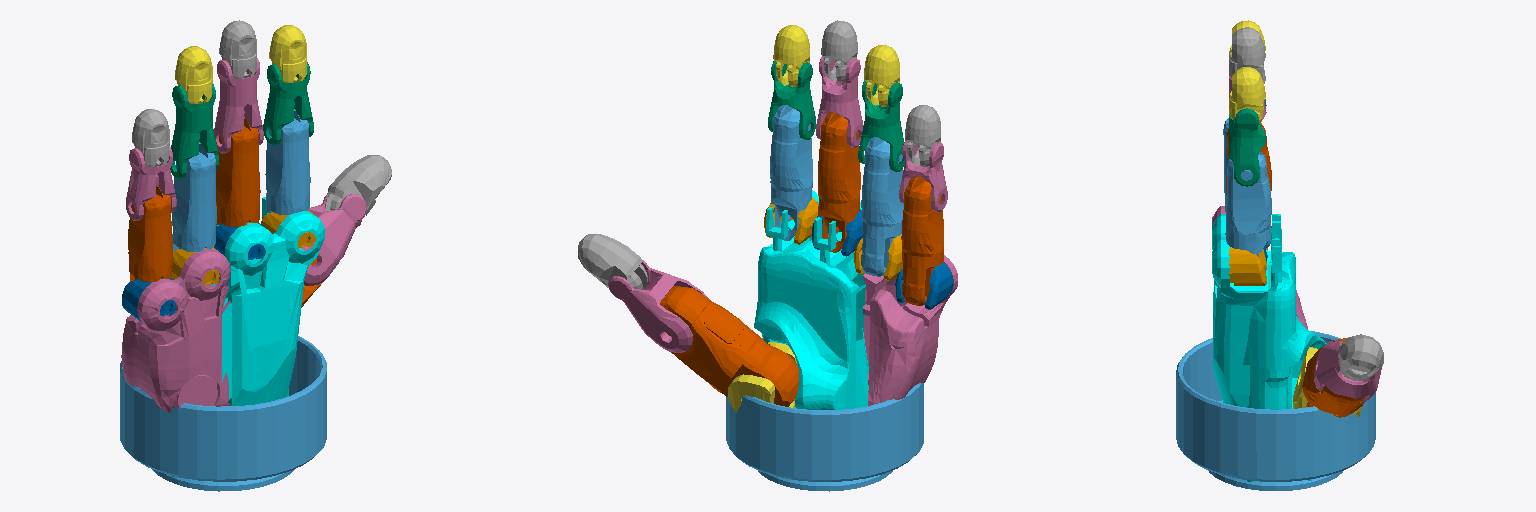
The robot description file, URDF, robot "svh":
<?xml version="1.0" ?>
<!-- =================================================================================== -->
<!-- |    This document was autogenerated by xacro from svh-standalone.urdf.xacro      | -->
<!-- |    EDITING THIS FILE BY HAND IS NOT RECOMMENDED                                 | -->
<!-- =================================================================================== -->
<robot name="svh">
  <link name="base_link"/>
  <!-- RIGHT HAND = 1, LEFT HAND = -1 -->
  <!-- BASE_LINE LINKS -->
  <joint name="left_hand_base_joint" type="fixed">
    <origin rpy="0 0 0" xyz="0 0 0"/>
    <parent link="base_link"/>
    <child link="left_hand_base_link"/>
  </joint>
  <link name="left_hand_base_link">
    <origin rpy="0 0 0" xyz="0 0 0"/>
    <visual>
      <origin rpy="0 0 0" xyz="0 0 0"/>
      <geometry>
        <mesh filename="meshes/base10.obj"/>
      </geometry>
    </visual>
    <inertial>
      <mass value="0.57743"/>
      <origin xyz="0.0 -2.3e-05 0.139371"/>
      <inertia ixx="0.04725" ixy="-0.0" ixz="-0.0" iyy="0.04717" iyz="0.0" izz="0.07606"/>
    </inertial>
  </link>
  <link name="left_hand_d">
    <inertial>
      <mass value="0.01"/>
      <origin xyz="0 0 0"/>
      <inertia ixx="0.001" ixy="0.0" ixz="0.0" iyy="0.001" iyz="0.0" izz="0.001"/>
    </inertial>
  </link>
  <link name="left_hand_h">
    <inertial>
      <mass value="0.01"/>
      <origin xyz="0 0 0"/>
      <inertia ixx="0.001" ixy="0.0" ixz="0.0" iyy="0.001" iyz="0.0" izz="0.001"/>
    </inertial>
  </link>
  <link name="left_hand_d2">
    <inertial>
      <mass value="0.01"/>
      <origin xyz="0 0 0"/>
      <inertia ixx="0.001" ixy="0.0" ixz="0.0" iyy="0.001" iyz="0.0" izz="0.001"/>
    </inertial>
  </link>
  <!-- LENGTH NOT FOUND IN DATASHEET! GUESSED!!! -->
  <link name="left_hand_e1">
    <visual>
      <origin rpy="0 0 0" xyz="0 0.01313 0"/>
      <geometry>
        <mesh filename="meshes/h10.obj"/>
      </geometry>
      <material name="cyan">
        <color rgba="0.0 1.0 1.0 1.0"/>
      </material>
      <texture filename=""/>
    </visual>
    <inertial>
      <mass value="0.01"/>
      <origin xyz="0 0 0"/>
      <inertia ixx="0.001" ixy="0.0" ixz="0.0" iyy="0.001" iyz="0.0" izz="0.001"/>
    </inertial>
  </link>
  <!-- LENGTH NOT FOUND IN DATASHEET! GUESSED!!! -->
  <link name="left_hand_e2">
    <visual>
      <origin xyz="0.0007 0 -0.01002"/>
      <geometry>
        <mesh filename="meshes/h11.obj"/>
      </geometry>
    </visual>
    <inertial>
      <mass value="0.46184"/>
      <origin xyz="0.145071 -0.037868 0.323449"/>
      <inertia ixx="0.01908" ixy="-0.00121" ixz="-0.00011" iyy="0.01704" iyz="0.00277" izz="0.00862"/>
    </inertial>
  </link>
  <!-- LENGTH NOT FOUND IN DATASHEET! GUESSED!!! -->
  <link name="left_hand_e3">
    <inertial>
      <mass value="0.01"/>
      <origin xyz="0 0 0"/>
      <inertia ixx="0.001" ixy="0.0" ixz="0.0" iyy="0.001" iyz="0.0" izz="0.001"/>
    </inertial>
  </link>
  <link name="left_hand_e">
    </link>
  <!-- LENGTH NOT FOUND IN DATASHEET! GUESSED, BUT POSITION CALCULATED WITH E4 = D-G-F!!! -->
  <link name="left_hand_e4">
    <inertial>
      <mass value="0.01"/>
      <origin xyz="0 0 0"/>
      <inertia ixx="0.001" ixy="0.0" ixz="0.0" iyy="0.001" iyz="0.0" izz="0.001"/>
    </inertial>
  </link>
  <!-- LENGTH NOT FOUND IN DATASHEET! GUESSED, BUT POSITION CALCULATED WITH E5 = D-G!!! -->
  <link name="left_hand_e5">
    <inertial>
      <mass value="0.01"/>
      <origin xyz="0 0 0"/>
      <inertia ixx="0.001" ixy="0.0" ixz="0.0" iyy="0.001" iyz="0.0" izz="0.001"/>
    </inertial>
  </link>
  <!-- THUMB LINKS -->
  <link name="left_hand_z">
    <visual>
      <origin xyz="0 0 0.02442"/>
      <geometry>
        <mesh filename="meshes/d10.obj"/>
      </geometry>
    </visual>
    <inertial>
      <mass value="0.0739"/>
      <origin xyz="0.0 0.002024 0.178636"/>
      <inertia ixx="0.00103" ixy="-0.0" ixz="-0.0" iyy="0.00165" iyz="4e-05" izz="0.00111"/>
    </inertial>
  </link>
  <link name="left_hand_virtual_a">
    <inertial>
      <mass value="0.01"/>
      <origin xyz="0 0 0"/>
      <inertia ixx="0.001" ixy="0.0" ixz="0.0" iyy="0.001" iyz="0.0" izz="0.001"/>
    </inertial>
  </link>
  <link name="left_hand_a">
    <visual>
      <geometry>
        <mesh filename="meshes/d11.obj"/>
      </geometry>
    </visual>
    <inertial>
      <mass value="0.41222"/>
      <origin xyz="0.240205 0.010733 0.00019"/>
      <inertia ixx="0.00413" ixy="0.00073" ixz="-0.0" iyy="0.01679" iyz="0.0" izz="0.01796"/>
    </inertial>
  </link>
  <link name="left_hand_b">
    <visual>
      <geometry>
        <mesh filename="meshes/d12.obj"/>
      </geometry>
    </visual>
    <inertial>
      <mass value="0.08224"/>
      <origin xyz="0.123157 -0.008382 -2.7e-05"/>
      <inertia ixx="0.00089" ixy="5e-05" ixz="0.0" iyy="0.00139" iyz="0.0" izz="0.00103"/>
    </inertial>
  </link>
  <link name="left_hand_c">
    <visual>
      <geometry>
        <mesh filename="meshes/d13.obj"/>
      </geometry>
    </visual>
    <inertial>
      <mass value="0.06198"/>
      <origin xyz="0.113729 0.01094 0.0"/>
      <inertia ixx="0.00025" ixy="-0.0" ixz="-0.0" iyy="0.00051" iyz="0.0" izz="0.00052"/>
    </inertial>
  </link>
  <!-- INDEX FINGER LINKS -->
  <link name="left_hand_virtual_l">
    <visual>
      <origin xyz="0 0 0.01321"/>
      <geometry>
        <mesh filename="meshes/f10.obj"/>
      </geometry>
    </visual>
    <inertial>
      <mass value="0.02383"/>
      <origin xyz="0.003634 0.000206 -0.09885"/>
      <inertia ixx="0.00021" ixy="-0.0" ixz="-1e-05" iyy="0.00011" iyz="-0.0" izz="0.00019"/>
    </inertial>
  </link>
  <link name="left_hand_l">
    <visual>
      <geometry>
        <mesh filename="meshes/f11.obj"/>
      </geometry>
    </visual>
    <inertial>
      <mass value="0.13003"/>
      <origin xyz="0.261673 0.003521 0.0"/>
      <inertia ixx="0.00051" ixy="-3e-05" ixz="0.0" iyy="0.00335" iyz="-0.0" izz="0.00344"/>
    </inertial>
  </link>
  <link name="left_hand_p">
    <visual>
      <geometry>
        <mesh filename="meshes/f12.obj"/>
      </geometry>
    </visual>
    <inertial>
      <mass value="0.03264"/>
      <origin xyz="0.1384 -0.004609 0.0"/>
      <inertia ixx="0.00016" ixy="-0.0" ixz="0.0" iyy="0.00031" iyz="-0.0" izz="0.00024"/>
    </inertial>
  </link>
  <link name="left_hand_t">
    <visual>
      <geometry>
        <mesh filename="meshes/f13.obj"/>
      </geometry>
    </visual>
    <inertial>
      <mass value="0.0324"/>
      <origin xyz="0.102924 0.000592 0.0"/>
      <inertia ixx="9e-05" ixy="-1e-05" ixz="-0.0" iyy="0.00017" iyz="0.0" izz="0.00017"/>
    </inertial>
  </link>
  <!-- MIDDLE FINGER LINKS -->
  <link name="left_hand_virtual_k">
    <visual>
      <origin xyz="0 0 0.01321"/>
      <geometry>
        <mesh filename="meshes/f20.obj"/>
      </geometry>
    </visual>
    <inertial>
      <mass value="0.02377"/>
      <origin xyz="0.003357 -8e-06 -0.099643"/>
      <inertia ixx="0.00021" ixy="-0.0" ixz="-1e-05" iyy="0.00011" iyz="0.0" izz="0.00019"/>
    </inertial>
  </link>
  <link name="left_hand_k">
    <visual>
      <geometry>
        <mesh filename="meshes/f21.obj"/>
      </geometry>
    </visual>
    <inertial>
      <mass value="0.13474"/>
      <origin xyz="0.271122 0.00413 0.0"/>
      <inertia ixx="0.00052" ixy="-3e-05" ixz="-0.0" iyy="0.0037" iyz="-0.0" izz="0.0038"/>
    </inertial>
  </link>
  <link name="left_hand_o">
    <visual>
      <geometry>
        <mesh filename="meshes/f22.obj"/>
      </geometry>
    </visual>
    <inertial>
      <mass value="0.0422"/>
      <origin xyz="0.16683 -0.003774 0.0"/>
      <inertia ixx="0.0002" ixy="0.0" ixz="-0.0" iyy="0.00047" iyz="0.0" izz="0.0004"/>
    </inertial>
  </link>
  <link name="left_hand_s">
    <visual>
      <geometry>
        <mesh filename="meshes/f23.obj"/>
      </geometry>
    </visual>
    <inertial>
      <mass value="0.03239"/>
      <origin xyz="0.102794 0.00042 0.0"/>
      <inertia ixx="9e-05" ixy="-1e-05" ixz="0.0" iyy="0.00017" iyz="0.0" izz="0.00017"/>
    </inertial>
  </link>
  <!-- RING FINGER LINKS -->
  <link name="left_hand_virtual_j">
    <visual>
      <origin xyz="0 0 -0.01321"/>
      <geometry>
        <mesh filename="meshes/f30.obj"/>
      </geometry>
    </visual>
    <inertial>
      <mass value="0.02377"/>
      <origin xyz="0.003805 0.000386 0.100079"/>
      <inertia ixx="0.00021" ixy="0.0" ixz="1e-05" iyy="0.00011" iyz="-0.0" izz="0.00019"/>
    </inertial>
  </link>
  <link name="left_hand_j">
    <visual>
      <geometry>
        <mesh filename="meshes/f31.obj"/>
      </geometry>
    </visual>
    <inertial>
      <mass value="0.1377"/>
      <origin xyz="0.258283 -0.00154 0.0"/>
      <inertia ixx="0.00055" ixy="0.00018" ixz="-0.0" iyy="0.00411" iyz="0.0" izz="0.00426"/>
    </inertial>
  </link>
  <link name="left_hand_n">
    <visual>
      <geometry>
        <mesh filename="meshes/f32.obj"/>
      </geometry>
    </visual>
    <inertial>
      <mass value="0.04207"/>
      <origin xyz="0.166851 -0.00362 0.0"/>
      <inertia ixx="0.00019" ixy="0.0" ixz="-0.0" iyy="0.00047" iyz="0.0" izz="0.0004"/>
    </inertial>
  </link>
  <link name="left_hand_r">
    <visual>
      <geometry>
        <mesh filename="meshes/f33.obj"/>
      </geometry>
    </visual>
    <inertial>
      <mass value="0.03229"/>
      <origin xyz="0.102676 0.000301 0.0"/>
      <inertia ixx="9e-05" ixy="-1e-05" ixz="0.0" iyy="0.00017" iyz="-0.0" izz="0.00017"/>
    </inertial>
  </link>
  <!-- LITTLE FINGER LINKS -->
  <link name="left_hand_virtual_i">
    <visual>
      <origin xyz="0 0 -0.01321"/>
      <geometry>
        <mesh filename="meshes/f40.obj"/>
      </geometry>
    </visual>
    <inertial>
      <mass value="0.02377"/>
      <origin xyz="0.003653 4.4e-05 0.100085"/>
      <inertia ixx="0.00021" ixy="0.0" ixz="1e-05" iyy="0.00011" iyz="-0.0" izz="0.00019"/>
    </inertial>
  </link>
  <link name="left_hand_i">
    <visual>
      <geometry>
        <mesh filename="meshes/f41.obj"/>
      </geometry>
    </visual>
    <inertial>
      <mass value="0.12544"/>
      <origin xyz="0.232293 0.00622 0.0"/>
      <inertia ixx="0.00049" ixy="6e-05" ixz="-0.0" iyy="0.00316" iyz="0.0" izz="0.00328"/>
    </inertial>
  </link>
  <link name="left_hand_m">
    <visual>
      <geometry>
        <mesh filename="meshes/f42.obj"/>
      </geometry>
    </visual>
    <inertial>
      <mass value="0.02488"/>
      <origin xyz="0.119665 -0.009328 0.0"/>
      <inertia ixx="0.00013" ixy="-0.0" ixz="-0.0" iyy="0.00023" iyz="0.0" izz="0.00016"/>
    </inertial>
  </link>
  <link name="left_hand_q">
    <visual>
      <geometry>
        <mesh filename="meshes/f43.obj"/>
      </geometry>
    </visual>
    <inertial>
      <mass value="0.03234"/>
      <origin xyz="0.102896 0.000307 0.0"/>
      <inertia ixx="9e-05" ixy="-1e-05" ixz="-0.0" iyy="0.00017" iyz="0.0" izz="0.00017"/>
    </inertial>
  </link>
  <joint name="left_hand_Thumb_Flexion" type="revolute">
    <parent link="left_hand_virtual_a"/>
    <child link="left_hand_a"/>
    <limit effort="1000.0" lower="0.0" upper="0.9704" velocity="1"/>
    <origin rpy="0 0 0.9704" xyz="0 0 0"/>
    <axis xyz="0 0 -1"/>
  </joint>
  <joint name="left_hand_Thumb_Helper" type="fixed">
    <parent link="left_hand_z"/>
    <child link="left_hand_virtual_a"/>
    <origin rpy="0 -1.5707 3.1416" xyz="0 0 0.04596"/>
  </joint>
  <!-- BASE_LINE JOINTS -->
  <joint name="left_hand_Thumb_Opposition" type="revolute">
    <parent link="left_hand_e1"/>
    <child link="left_hand_z"/>
    <limit effort="1000.0" lower="0.0" upper="0.9879" velocity="1"/>
    <origin rpy="0 0.2618 1.571" xyz="0.0169 0.02626 0"/>
    <axis xyz="0 0 1"/>
  </joint>
  <!-- JOINT NOT FOR BASE_LINE. BUT WRITTEN DOWN HERE FOR BETTER UX -->
  <joint name="left_hand_f1" type="fixed">
    <parent link="left_hand_e1"/>
    <child link="left_hand_d"/>
    <origin rpy="0 0 0" xyz="0 0 0"/>
  </joint>
  <joint name="left_hand_f2" type="fixed">
    <parent link="left_hand_d"/>
    <child link="left_hand_h"/>
    <origin rpy="0 0 0" xyz="0 0 0"/>
  </joint>
  <joint name="left_hand_f3" type="fixed">
    <parent link="left_hand_h"/>
    <child link="left_hand_d2"/>
    <origin rpy="0 0 0" xyz="0 0 0"/>
  </joint>
  <joint name="left_hand_f4" type="fixed">
    <parent link="left_hand_base_link"/>
    <child link="left_hand_e1"/>
    <origin rpy="0 0 0" xyz="0 -0.01313 0"/>
  </joint>
  <!-- J5 JOINTS is set to fixed temporarily due to defective DH algo -->
  <joint name="left_hand_j5" type="fixed">
    <parent link="left_hand_e1"/>
    <child link="left_hand_e2"/>
    <!--limit effort="1000.0" lower="0.0" upper="0.98786" velocity="1"/-->
    <origin rpy="0 0 0" xyz="-0.0184 0.006 0.0375"/>
    <!--axis xyz="0 0 ${side*(1)}"/-->
    <!--mimic joint="${name}_Thumb_Opposition" multiplier="1" offset="0"/-->
  </joint>
  <joint name="left_hand_f5" type="fixed">
    <parent link="left_hand_e2"/>
    <child link="left_hand_e3"/>
    <origin rpy="0 0 0" xyz="0 -0.0060 0"/>
  </joint>
  <joint name="left_hand_f6" type="fixed">
    <parent link="left_hand_e3"/>
    <child link="left_hand_e"/>
    <origin rpy="0 0 0" xyz="0 0 0"/>
  </joint>
  <joint name="left_hand_f7" type="fixed">
    <parent link="left_hand_e"/>
    <child link="left_hand_e4"/>
    <origin rpy="0 0 0" xyz="0 0 0"/>
  </joint>
  <joint name="left_hand_f8" type="fixed">
    <parent link="left_hand_e"/>
    <child link="left_hand_e5"/>
    <origin rpy="0 0 0" xyz="0 0 0"/>
  </joint>
  <!-- THUMB JOINTS -->
  <joint name="left_hand_j3" type="revolute">
    <parent link="left_hand_a"/>
    <child link="left_hand_b"/>
    <limit effort="1000.0" lower="0.0" upper="0.98506" velocity="1"/>
    <origin rpy="0 0 0" xyz="0.0485 0 0"/>
    <axis xyz="0 0 -1"/>
    <mimic joint="left_hand_Thumb_Flexion" multiplier="1.01511" offset="0"/>
  </joint>
  <joint name="left_hand_j4" type="revolute">
    <parent link="left_hand_b"/>
    <child link="left_hand_c"/>
    <limit effort="1000.0" lower="0.0" upper="1.406" velocity="1"/>
    <origin rpy="0 0 0" xyz="0.030 0 0"/>
    <axis xyz="0 0 -1"/>
    <mimic joint="left_hand_Thumb_Flexion" multiplier="1.44889" offset="0"/>
  </joint>
  <!-- INDEX FINGER JOINTS -->
  <joint name="left_hand_Index_Finger_Distal" type="revolute">
    <parent link="left_hand_l"/>
    <child link="left_hand_p"/>
    <limit effort="1000.0" lower="0" upper="1.334" velocity="1"/>
    <origin rpy="0 0 0" xyz="0.04804 0 0"/>
    <axis xyz="0 0 1"/>
  </joint>
  <joint name="left_hand_Index_Finger_Proximal" type="revolute">
    <parent link="left_hand_virtual_l"/>
    <child link="left_hand_l"/>
    <limit effort="1000.0" lower="0.0" upper="0.79849" velocity="1"/>
    <origin rpy="-1.5707 0 0" xyz="0 0 0"/>
    <axis xyz="0 0 1"/>
  </joint>
  <!-- JOINT Finger_Spread in BASE_LINE section for better UX -->
  <joint name="left_hand_j14" type="revolute">
    <parent link="left_hand_p"/>
    <child link="left_hand_t"/>
    <limit effort="1000.0" lower="0" upper="1.394" velocity="1"/>
    <origin rpy="0 0 0" xyz="0.026 0 0"/>
    <axis xyz="0 0 1"/>
    <mimic joint="left_hand_Index_Finger_Distal" multiplier="1.0450" offset="0"/>
  </joint>
  <!-- MIDDLE FINGER JOINTS -->
  <joint name="left_hand_Middle_Finger_Proximal" type="revolute">
    <parent link="left_hand_virtual_k"/>
    <child link="left_hand_k"/>
    <limit effort="1000.0" lower="0.0" upper="0.79849" velocity="1"/>
    <origin rpy="-1.5707 0 0" xyz="0 0 0"/>
    <axis xyz="0 0 1"/>
  </joint>
  <joint name="left_hand_Middle_Finger_Distal" type="revolute">
    <parent link="left_hand_k"/>
    <child link="left_hand_o"/>
    <limit effort="1000.0" lower="0" upper="1.334" velocity="1"/>
    <origin rpy="0 0 0" xyz="0.05004 0 0"/>
    <axis xyz="0 0 1"/>
  </joint>
  <joint name="left_hand_j15" type="revolute">
    <parent link="left_hand_o"/>
    <child link="left_hand_s"/>
    <limit effort="1000.0" lower="0" upper="1.334" velocity="1"/>
    <origin rpy="0 0 0" xyz="0.032 0 0"/>
    <axis xyz="0 0 1"/>
    <mimic joint="left_hand_Middle_Finger_Distal" multiplier="1.0454" offset="0"/>
  </joint>
  <!-- RING FINGER JOINTS -->
  <joint name="left_hand_Ring_Finger" type="revolute">
    <parent link="left_hand_virtual_j"/>
    <child link="left_hand_j"/>
    <limit effort="1000.0" lower="0.0" upper="0.98175" velocity="1"/>
    <origin rpy="1.5707 0 0" xyz="0 0 0"/>
    <axis xyz="0 0 1"/>
  </joint>
  <joint name="left_hand_j12" type="revolute">
    <parent link="left_hand_j"/>
    <child link="left_hand_n"/>
    <limit effort="1000.0" lower="0" upper="1.334" velocity="1"/>
    <origin rpy="0 0 0" xyz="0.05004 0 0"/>
    <axis xyz="0 0 1"/>
    <mimic joint="left_hand_Ring_Finger" multiplier="1.3588" offset="0"/>
  </joint>
  <joint name="left_hand_j16" type="revolute">
    <parent link="left_hand_n"/>
    <child link="left_hand_r"/>
    <limit effort="1000.0" lower="0" upper="1.395" velocity="1"/>
    <origin rpy="0 0 0" xyz="0.032 0 0"/>
    <axis xyz="0 0 1"/>
    <mimic joint="left_hand_Ring_Finger" multiplier="1.42093" offset="0"/>
  </joint>
  
  <!-- PINKY JOINTS -->
  <joint name="left_hand_Pinky" type="revolute">
    <parent link="left_hand_virtual_i"/>
    <child link="left_hand_i"/>
    <limit effort="1000.0" lower="0.0" upper="0.98175" velocity="1"/>
    <origin rpy="1.5707 0 0" xyz="0 0 0"/>
    <axis xyz="0 0 1"/>
  </joint>

  <joint name="left_hand_j13" type="revolute">
    <parent link="left_hand_i"/>
    <child link="left_hand_m"/>
    <limit effort="1000.0" lower="0" upper="1.334" velocity="1"/>
    <origin rpy="0 0 0" xyz="0.04454 0 0"/>
    <axis xyz="0 0 1"/>
    <mimic joint="left_hand_Pinky" multiplier="1.35880" offset="0"/>
  </joint>

  <joint name="left_hand_j17" type="revolute">
    <parent link="left_hand_m"/>
    <child link="left_hand_q"/>
    <limit effort="1000.0" lower="0" upper="1.3971" velocity="1"/>
    <origin rpy="0 0 0" xyz="0.022 0 0"/>
    <axis xyz="0 0 1"/>
    <mimic joint="left_hand_Pinky" multiplier="1.42307" offset="0"/>
  </joint>

  <joint name="left_hand_index_spread" type="revolute">
    <parent link="left_hand_d2"/>
    <child link="left_hand_virtual_l"/>
    <limit effort="1000.0" lower="0.0" upper="0.28833" velocity="1"/>
    <origin rpy="0 -1.5707 1.5707" xyz="0.025 0 0.110"/>
    <axis xyz="0 0 -1"/>
    <mimic joint="left_hand_Finger_Spread" multiplier="0.5" offset="0"/>
  </joint>

  <joint name="left_hand_middle_spread_dummy" type="fixed">
    <parent link="left_hand_d"/>
    <child link="left_hand_virtual_k"/>
    <origin rpy="0 -1.5707 1.5707" xyz="0 0 0.110"/>
  </joint>

  <joint name="left_hand_ring_spread" type="revolute">
    <parent link="left_hand_e5"/>
    <child link="left_hand_virtual_j"/>
    <limit effort="1000.0" lower="0.0" upper="0.28833" velocity="1"/>
    <origin rpy="-1.5707 -1.5707 0" xyz="-0.003855 0 0.0655"/>
    <axis xyz="0 0 -1"/>
    <mimic joint="left_hand_Finger_Spread" multiplier="0.5" offset="0"/>
  </joint>

  <joint name="left_hand_Finger_Spread" type="revolute">
    <parent link="left_hand_e4"/>
    <child link="left_hand_virtual_i"/>
    <limit effort="1000.0" lower="0.0" upper="0.5829" velocity="1"/>
    <origin rpy="-1.5707 -1.5707 0" xyz="-0.025355 0 0.056"/>
    <axis xyz="0 0 -1"/>
  </joint>

  <transmission name="left_hand_Thumb_Opposition_trans">
    <type>transmission_interface/SimpleTransmission</type>
    <joint name="left_hand_Thumb_Opposition"/>
    <actuator name="left_hand_Thumb_Opposition_motor"/>
  </transmission>

  <transmission name="left_hand_Thumb_Flexion_trans">
    <type>transmission_interface/SimpleTransmission</type>
    <joint name="left_hand_Thumb_Flexion"/>
    <actuator name="left_hand_Thumb_Flexion_motor"/>
  </transmission>

  <transmission name="left_hand_Index_Finger_Proximal_trans">
    <type>transmission_interface/SimpleTransmission</type>
    <joint name="left_hand_Index_Finger_Proximal"/>
    <actuator name="left_hand_Index_Finger_Proximal_motor"/>
  </transmission>

  <transmission name="left_hand_Index_Finger_Distal_trans">
    <type>transmission_interface/SimpleTransmission</type>
    <joint name="left_hand_Index_Finger_Distal"/>
    <actuator name="left_hand_Index_Finger_Distal_motor"/>
  </transmission>

  <transmission name="left_hand_Middle_Finger_Proximal_trans">
    <type>transmission_interface/SimpleTransmission</type>
    <joint name="left_hand_Middle_Finger_Proximal"/>
    <actuator name="left_hand_Middle_Finger_Proximal_motor"/>
  </transmission>

  <transmission name="left_hand_Middle_Finger_Distal_trans">
    <type>transmission_interface/SimpleTransmission</type>
    <joint name="left_hand_Middle_Finger_Distal"/>
    <actuator name="left_hand_Middle_Finger_Distal_motor"/>
  </transmission>

  <transmission name="left_hand_Finger_Spread_trans">
    <type>transmission_interface/SimpleTransmission</type>
    <joint name="left_hand_Finger_Spread"/>
    <actuator name="left_hand_Finger_Spread_motor"/>
  </transmission>

  <transmission name="left_hand_Pinky_trans">
    <type>transmission_interface/SimpleTransmission</type>
    <joint name="left_hand_Pinky"/>
    <actuator name="left_hand_Pinky_motor"/>
  </transmission>

  <transmission name="left_hand_Ring_Finger_trans">
    <type>transmission_interface/SimpleTransmission</type>
    <joint name="left_hand_Ring_Finger"/>
    <actuator name="left_hand_Ring_Finger_motor"/>
  </transmission>
  
</robot>

--- What the picture shows (computed from the rendered views, not written in the file) ---
3 views of the same robot in one strip: view 1: azimuth 30°, elevation 25°; view 2: azimuth 150°, elevation 25°; view 3: azimuth 270°, elevation 25° (orthographic).
Robot: svh — 32 links, 31 joints (19 revolute, 12 fixed); root link base_link; default pose: every joint at zero.
Links seen in each view (by area): view 1: left_hand_base_link, left_hand_e1, left_hand_e2, left_hand_j, left_hand_k, left_hand_l, left_hand_i, left_hand_o, left_hand_b, left_hand_n, left_hand_p, left_hand_c (+9 smaller); view 2: left_hand_e1, left_hand_base_link, left_hand_a, left_hand_e2, left_hand_j, left_hand_k, left_hand_i, left_hand_l, left_hand_b, left_hand_c, left_hand_o, left_hand_n (+11 smaller); view 3: left_hand_base_link, left_hand_e1, left_hand_l, left_hand_p, left_hand_b, left_hand_c, left_hand_a, left_hand_t, left_hand_s, left_hand_virtual_l, left_hand_z.
Link boxes in pixels (<box>): left_hand_base_link: <box>120,336,326,491</box>; left_hand_e1: <box>172,197,324,476</box>; left_hand_e2: <box>121,248,230,412</box>; left_hand_j: <box>172,142,216,251</box>; left_hand_k: <box>216,117,260,227</box>; left_hand_l: <box>265,109,310,214</box>; left_hand_i: <box>128,186,172,281</box>; left_hand_o: <box>214,58,263,153</box>; left_hand_b: <box>301,194,366,285</box>; left_hand_n: <box>170,84,218,178</box>; left_hand_p: <box>263,62,313,145</box>; left_hand_c: <box>325,155,391,215</box>; left_hand_e1: <box>754,190,868,409</box>; left_hand_base_link: <box>726,383,923,491</box>; left_hand_a: <box>660,286,798,406</box>; left_hand_e2: <box>863,255,957,405</box>; left_hand_j: <box>861,137,903,276</box>; left_hand_k: <box>818,112,860,252</box>; left_hand_i: <box>901,176,943,305</box>; left_hand_l: <box>770,105,812,240</box>; left_hand_b: <box>608,260,709,352</box>; left_hand_c: <box>578,234,647,289</box>; left_hand_o: <box>816,57,863,147</box>; left_hand_n: <box>858,81,904,171</box>; left_hand_base_link: <box>1176,331,1375,490</box>; left_hand_e1: <box>1212,214,1326,481</box>; left_hand_l: <box>1225,151,1271,257</box>; left_hand_p: <box>1229,108,1266,186</box>; left_hand_b: <box>1314,341,1381,401</box>; left_hand_c: <box>1338,334,1383,380</box>; left_hand_a: <box>1302,338,1365,417</box>; left_hand_t: <box>1229,67,1265,123</box>; left_hand_s: <box>1229,27,1265,78</box>; left_hand_virtual_l: <box>1229,247,1266,285</box>; left_hand_z: <box>1293,347,1361,416</box>.
Size in the robot's own frame: 0.1609 by 0.0936 by 0.2145 metres.
Meshes: 23 distinct files referenced, 23 mesh visuals loaded (23 OBJ).
